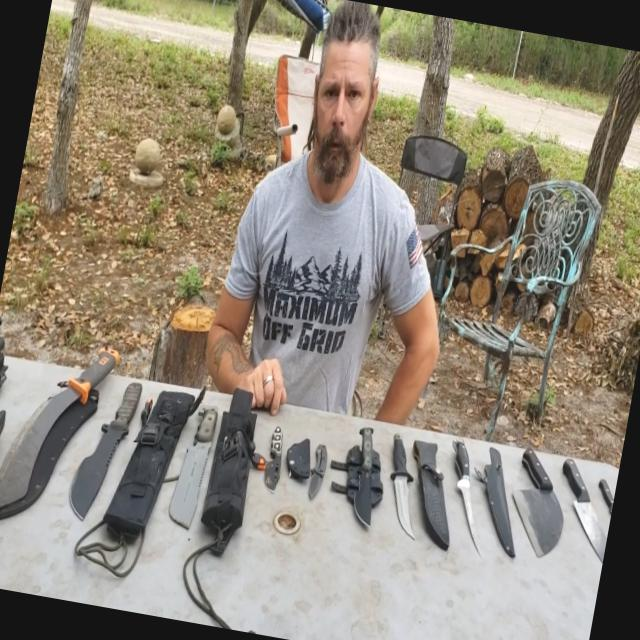knife: (0, 287, 123, 525), (50, 367, 154, 557), (420, 429, 523, 579), (164, 388, 231, 552), (500, 442, 587, 538), (338, 407, 393, 554), (378, 418, 439, 549), (556, 454, 618, 564), (256, 407, 298, 505), (297, 428, 336, 528)
